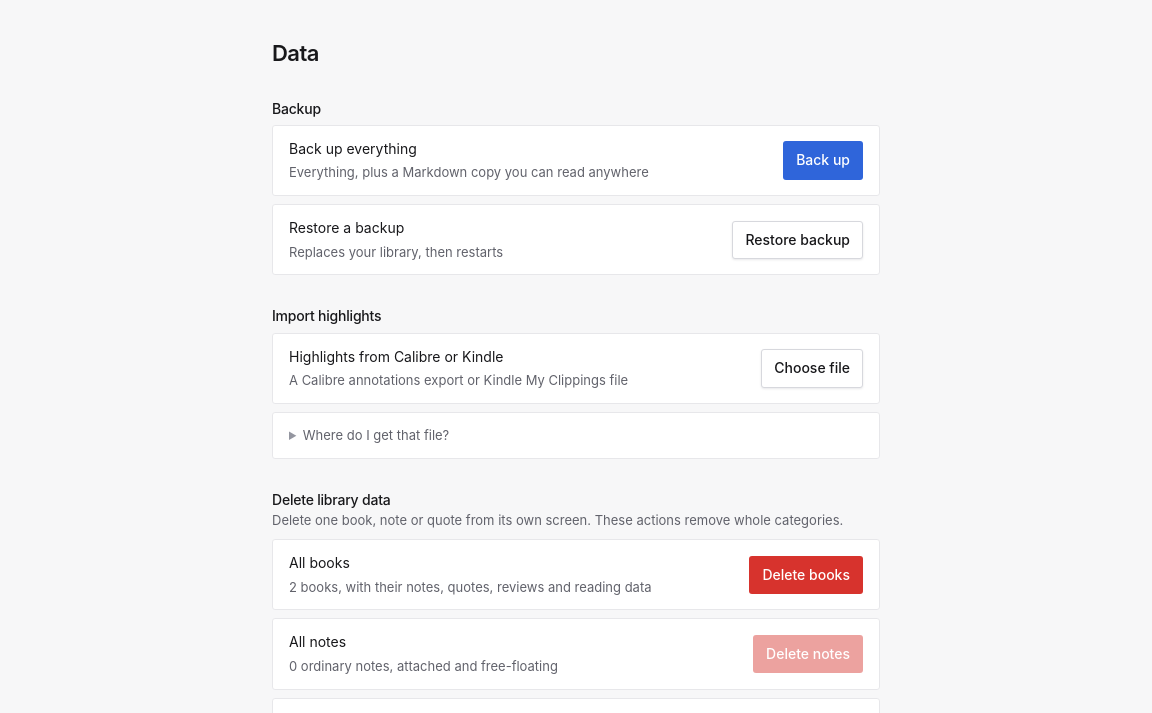
Scenario: the Data screen › says that free-floating notes survive a book delete
Click the button "Delete books": (806, 575) [749,556,863,594]
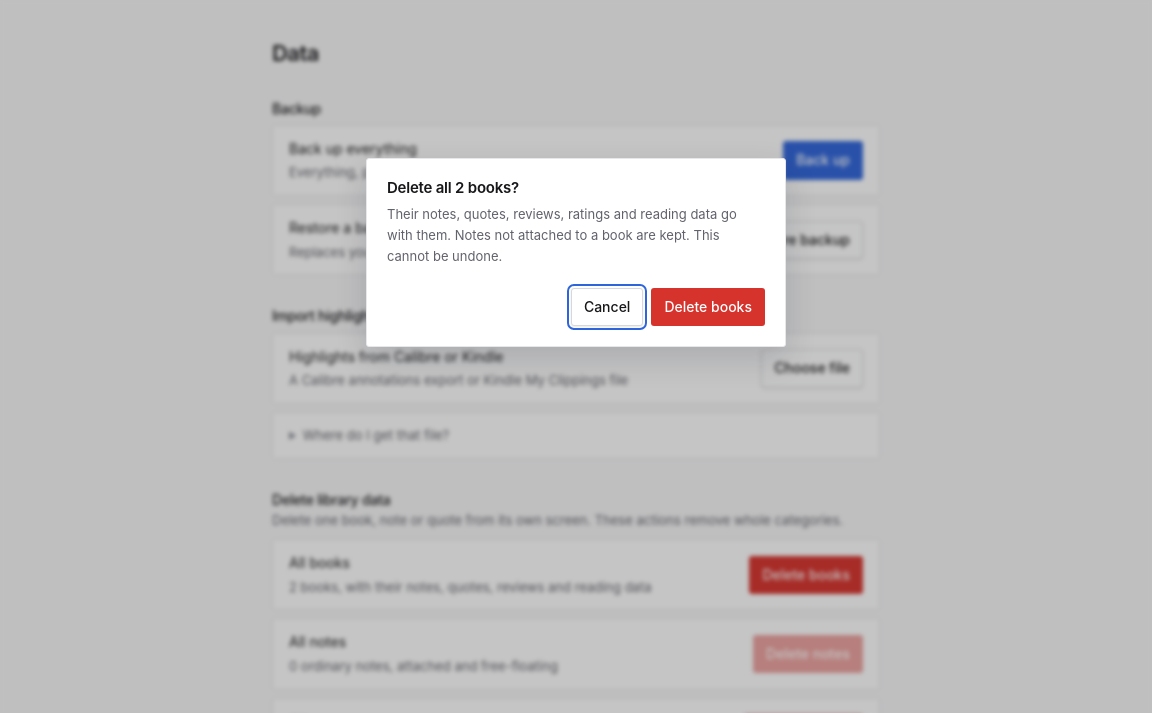
Now the heading "Delete all 2 books?" is shown, box [387,178,519,197]
Now the text "not attached to a book are kept" is shown, box [387,206,737,264]
